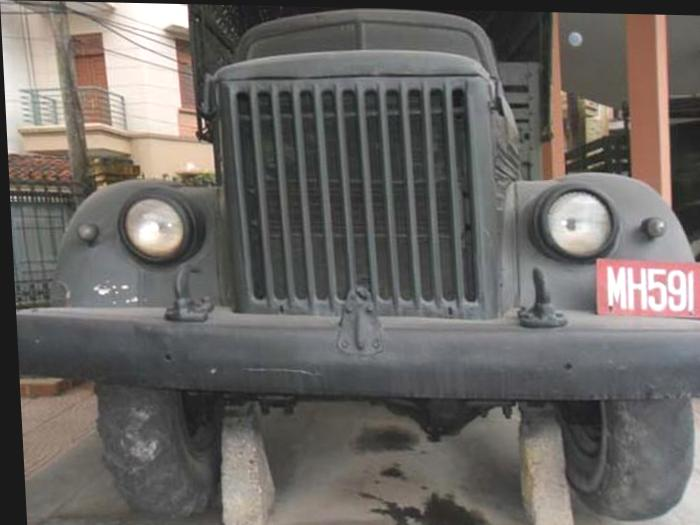License_Plate: (592, 254, 700, 323)
